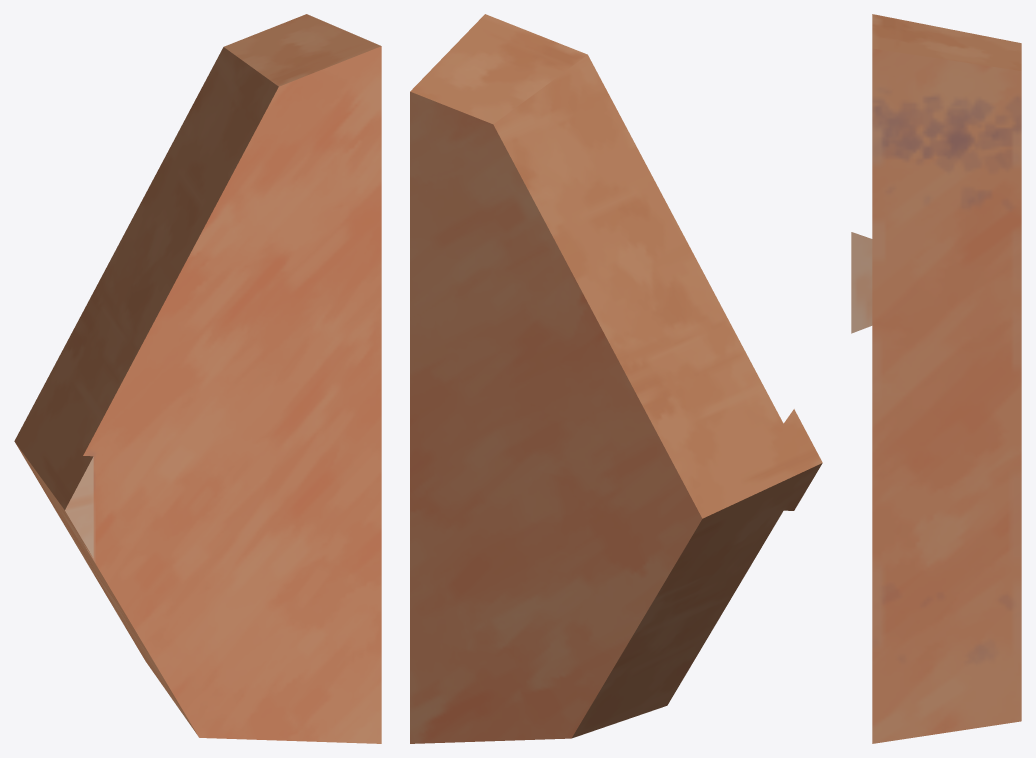
Rendered from wall2_upper_window_s07.fbx.
The picture shows the model from 3 angles, left to right: view 1: azimuth 30°, elevation 25°; view 2: azimuth 150°, elevation 25°; view 3: azimuth 270°, elevation 25°; orthographic projection.
Parts seen in each view (by area): view 1: wall2_upper_window_s07; view 2: wall2_upper_window_s07; view 3: wall2_upper_window_s07.
Part boxes in pixels (x1,y1,x2,y2): wall2_upper_window_s07: (14, 14, 381, 743); wall2_upper_window_s07: (410, 14, 822, 743); wall2_upper_window_s07: (851, 14, 1021, 743).
Size of the model in its own units: 2.52 by 5.14 by 1.14.
